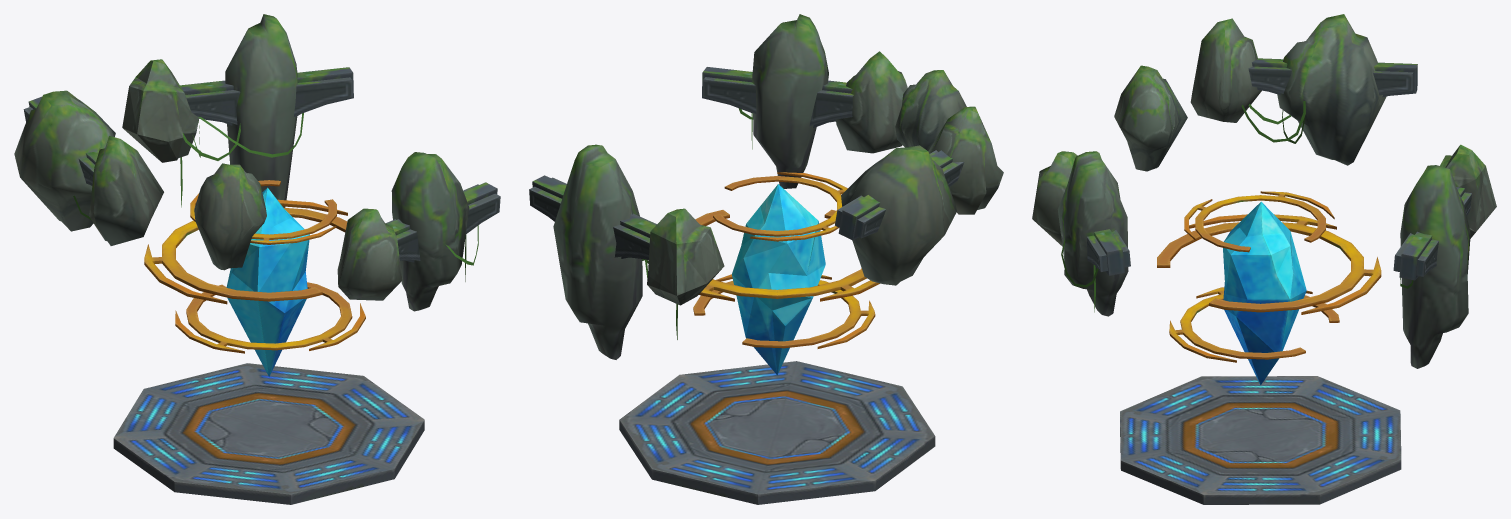
Rendered from Stage_ZhuCheng_TanSuo_03.FBX.
3 views of the same model, side by side, from view 1: azimuth 30°, elevation 25°; view 2: azimuth 150°, elevation 25°; view 3: azimuth 270°, elevation 25° (orthographic). The views are drawn at different scales.
Visible parts, largest first — view 1: Stage_ZhuCheng_TanSuo_03; view 2: Stage_ZhuCheng_TanSuo_03; view 3: Stage_ZhuCheng_TanSuo_03.
Boxes of the visible parts, bbox=[...] form: Stage_ZhuCheng_TanSuo_03: bbox=[14, 14, 500, 504]; Stage_ZhuCheng_TanSuo_03: bbox=[529, 14, 1003, 504]; Stage_ZhuCheng_TanSuo_03: bbox=[1032, 14, 1496, 504].
Size of the model in its own units: 674 by 625 by 762.
